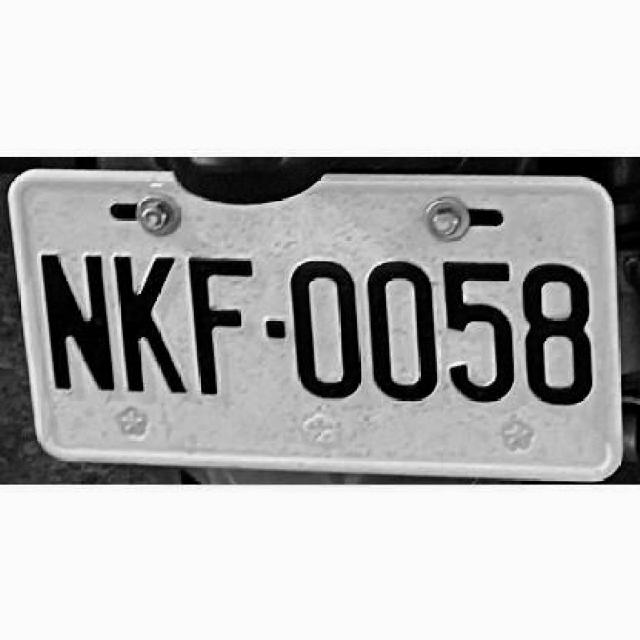-: (266, 315, 286, 337)
0: (288, 255, 360, 400), (368, 258, 438, 402)
5: (443, 257, 519, 401)
8: (520, 262, 594, 411)
F: (184, 250, 255, 398)
K: (109, 250, 192, 393)
N: (35, 249, 116, 393)
